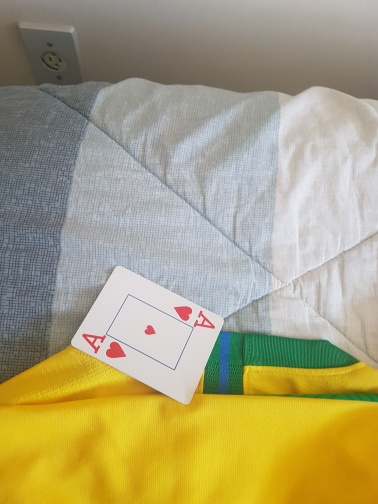ace: (69, 265, 229, 403)
